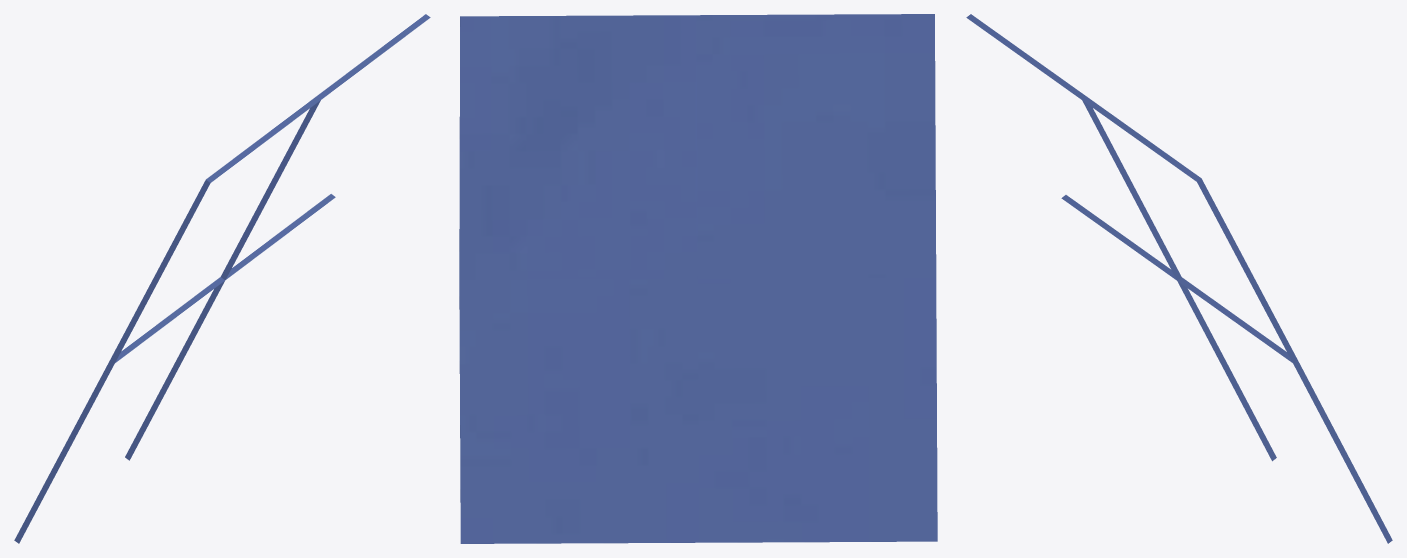
3 views of the same model, side by side, from view 1: azimuth 30°, elevation 25°; view 2: azimuth 150°, elevation 25°; view 3: azimuth 270°, elevation 25° (orthographic). The views are drawn at different scales.
Bounding box in the file's own units: 19685 × 17712 × 16645.
1 material, 1 textured.
